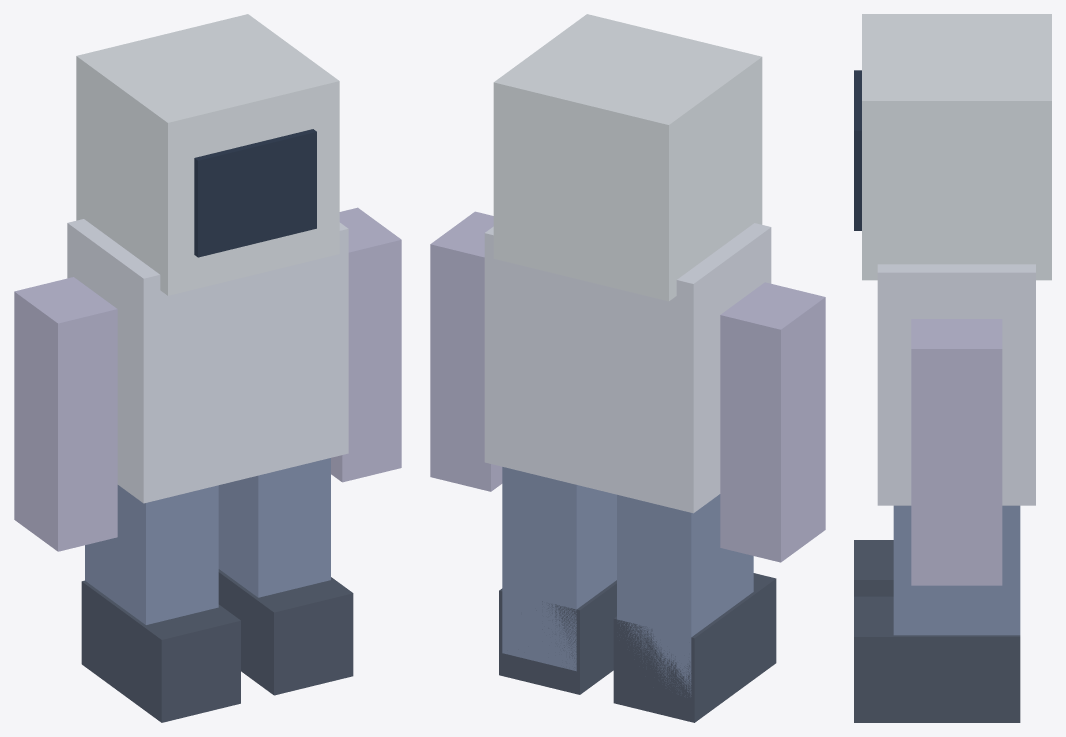
The picture shows the model from 3 angles, left to right: view 1: azimuth 30°, elevation 25°; view 2: azimuth 150°, elevation 25°; view 3: azimuth 270°, elevation 25°; orthographic projection. The views are drawn at different scales.
Visible parts, largest first — view 1: placeholder_person; view 2: placeholder_person; view 3: placeholder_person.
Part boxes in pixels (bbox=[...]): placeholder_person: bbox=[14, 14, 401, 722]; placeholder_person: bbox=[430, 14, 825, 722]; placeholder_person: bbox=[854, 14, 1051, 722].
Bounding box in the file's own units: 1.04 × 1.72 × 0.5.
